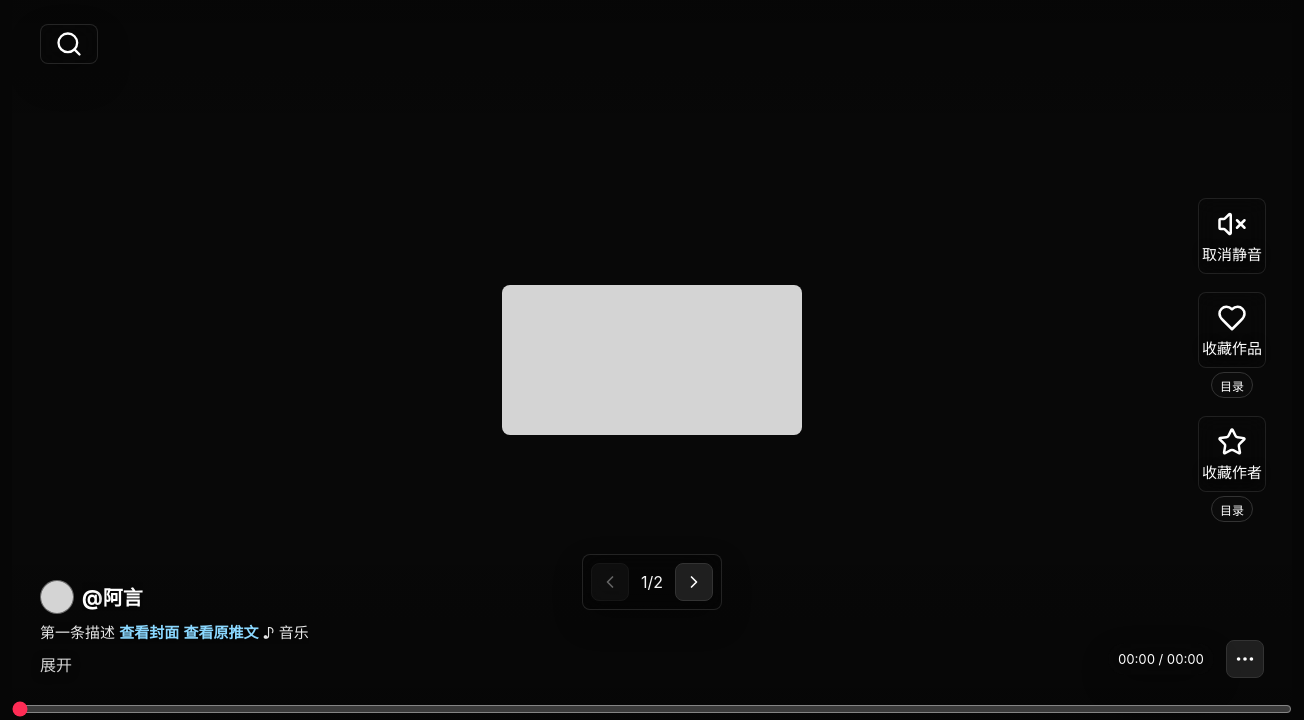
Scenario: keeps only work and creator favorite actions on the right rail with folder menus
The width and height of the screenshot is (1304, 720).
Expected: the button titled "收藏该作品" is shown, [1198,292,1266,368]
Expected: the button titled "收藏该作者" is shown, [1198,416,1266,492]
Click the 1st button titled "选择收藏夹" at (1232, 385), box [1211,372,1253,398]
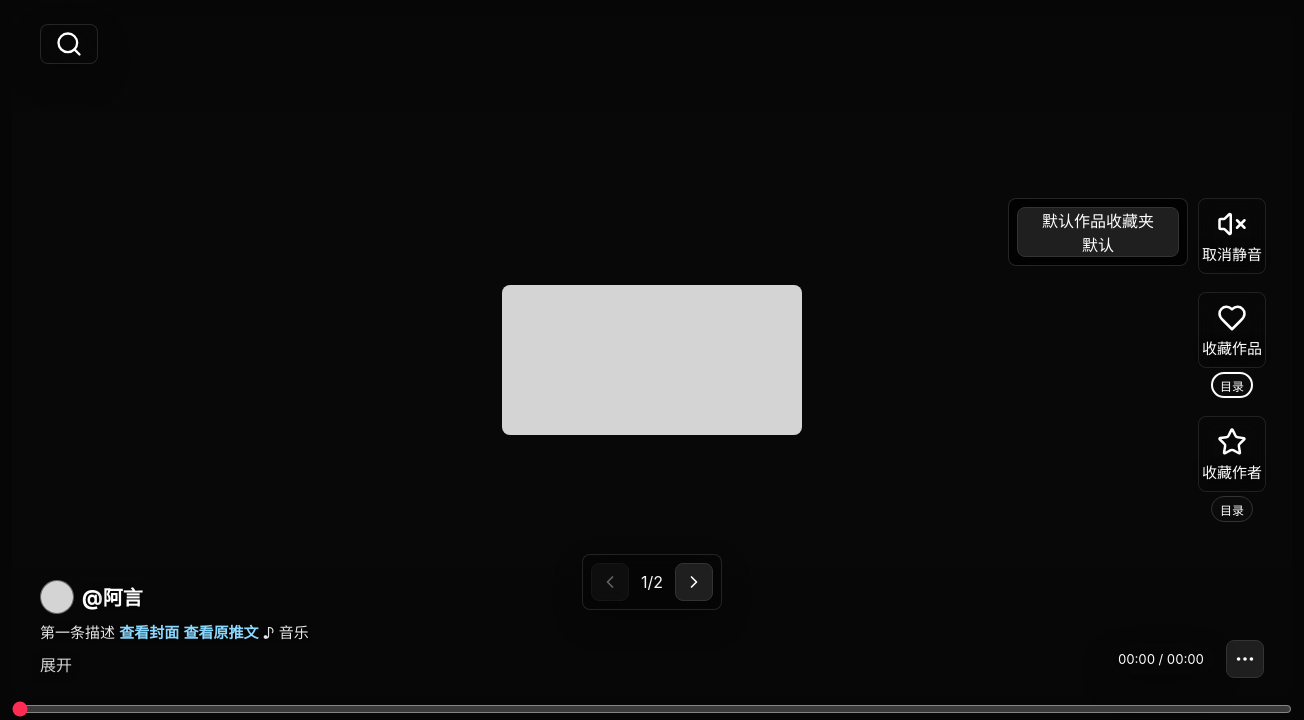
Expected: the button "默认作品收藏夹 默认" is shown, [1017,207,1179,257]
Click the 2nd button titled "选择收藏夹" at (1232, 509), box [1211,496,1253,522]
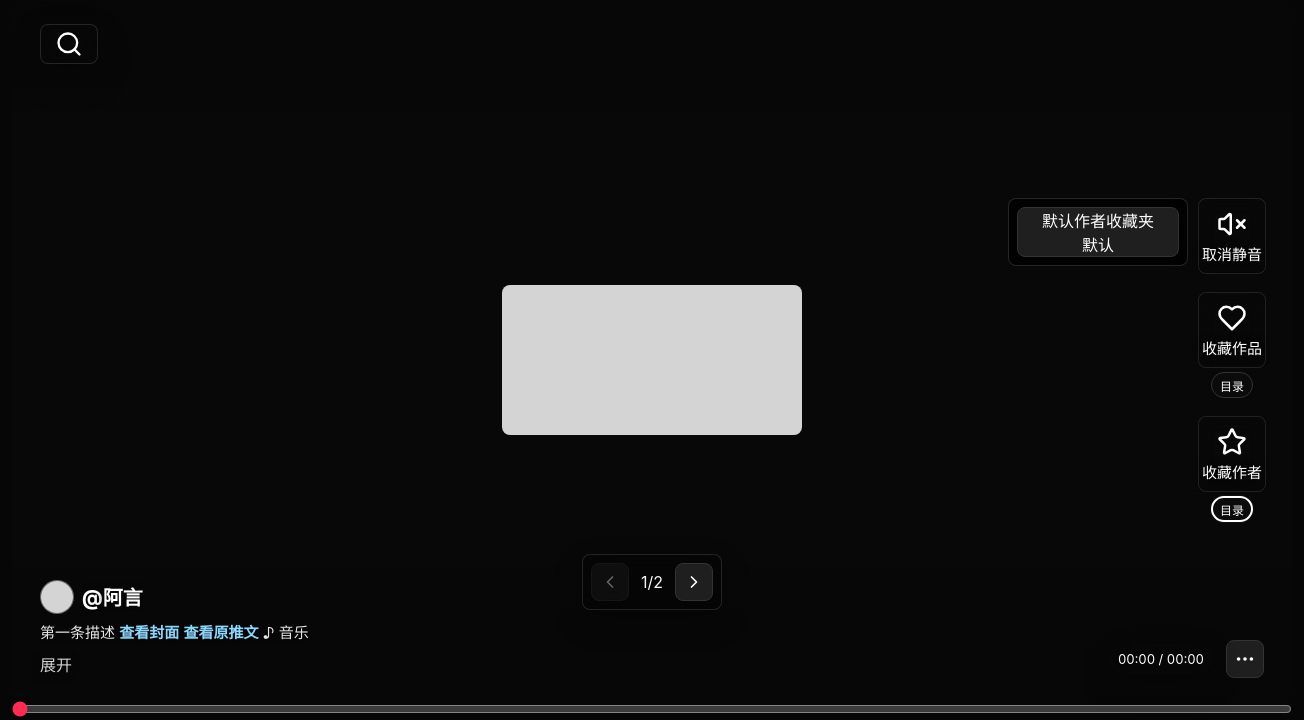
Expected: the button "默认作者收藏夹 默认" is shown, [1017,207,1179,257]
